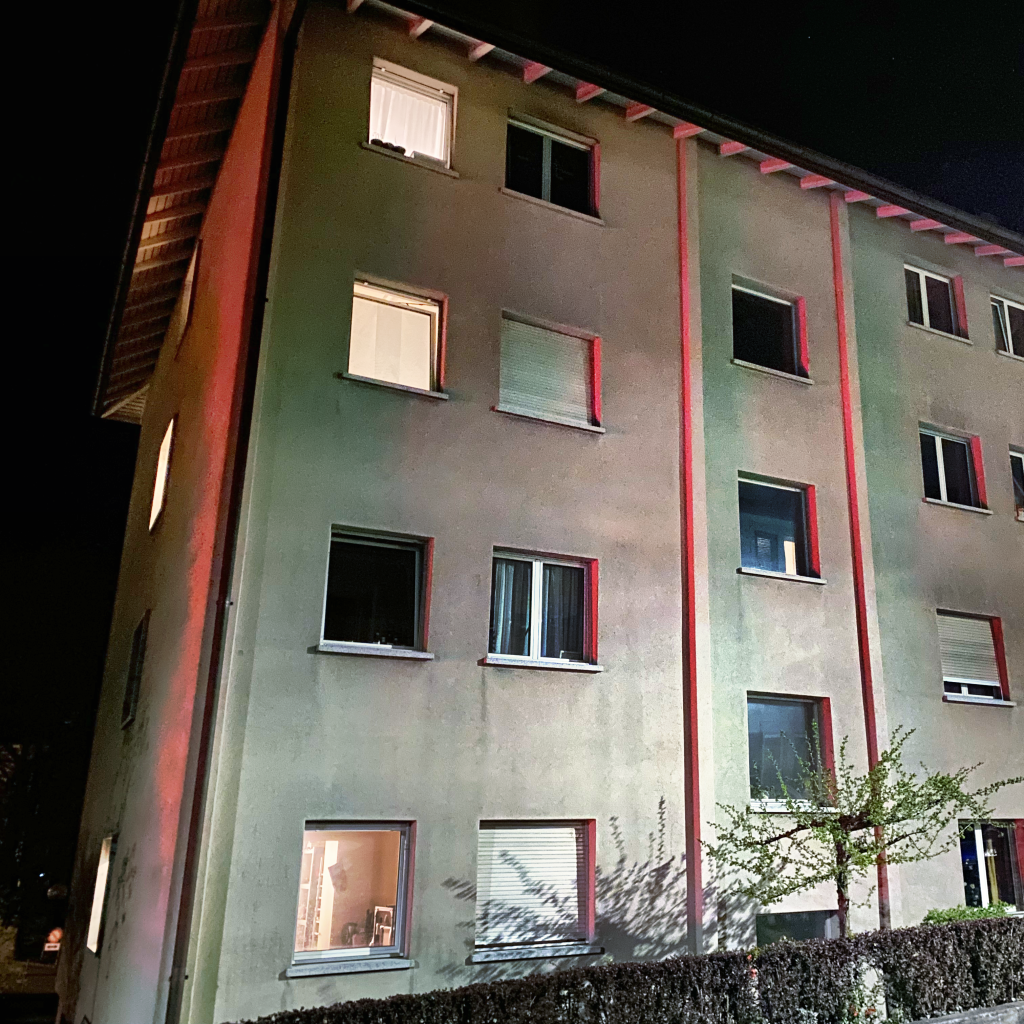glass panel: (475, 824, 586, 946), (295, 828, 401, 952), (324, 538, 418, 647), (349, 285, 435, 389), (369, 69, 450, 163), (748, 698, 817, 798), (739, 480, 806, 574), (733, 288, 797, 373), (488, 558, 532, 655), (540, 564, 584, 660), (550, 140, 593, 212), (981, 823, 1015, 905), (506, 123, 543, 197), (941, 437, 972, 504), (925, 275, 955, 333), (960, 827, 982, 906), (920, 434, 941, 499), (991, 301, 1012, 352), (905, 268, 923, 324), (1007, 303, 1023, 355), (1010, 454, 1023, 509)
